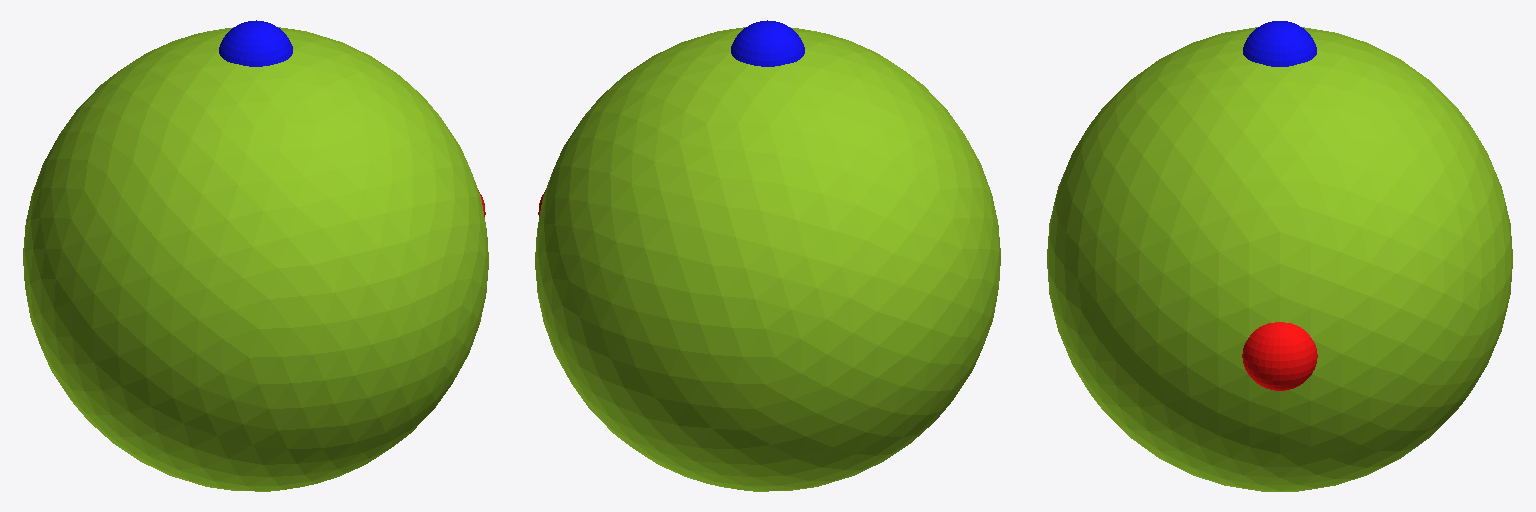
robot.urdf — sphere_tennis:
<robot name="sphere_tennis">
  <link name="object">
    <!-- Main sphere visual -->
    <visual>
      <origin xyz="0 0 0" rpy="0 0 0"/>
      <geometry>
        <mesh filename="sphere_tennis.stl" scale="1.0000E+00 1.0000E+00 1.0000E+00"/>
      </geometry>
      <material name="ball_green">
        <color rgba="0.6 0.8 0.2 1.0"/>
      </material>
    </visual>
    <!-- Small red dot on surface to visualize rotation -->
    <visual>
      <origin xyz="0.034 0 0" rpy="0 0 0"/>
      <geometry>
        <sphere radius="0.006"/>
      </geometry>
      <material name="dot_red">
        <color rgba="1.0 0.1 0.1 1.0"/>
      </material>
    </visual>
    <!-- Second blue dot on top for extra reference -->
    <visual>
      <origin xyz="0 0 0.034" rpy="0 0 0"/>
      <geometry>
        <sphere radius="0.006"/>
      </geometry>
      <material name="dot_blue">
        <color rgba="0.1 0.1 1.0 1.0"/>
      </material>
    </visual>
    <inertial>
      <origin xyz="0 0 0" rpy="0 0 0"/>
      <mass value="0.057"/>
      <inertia ixx="2.96E-05" ixy="0" ixz="0" iyy="2.96E-05" iyz="0" izz="2.96E-05"/>
    </inertial>
    <collision>
      <origin xyz="0 0 0" rpy="0 0 0"/>
      <geometry>
        <mesh filename="coacd_allinone.obj" scale="1.0000E+00 1.0000E+00 1.0000E+00"/>
      </geometry>
    </collision>
  </link>
</robot>

--- What the picture shows (computed from the rendered views, not written in the file) ---
The picture shows the robot from 3 angles, left to right: view 1: azimuth 30°, elevation 25°; view 2: azimuth 150°, elevation 25°; view 3: azimuth 270°, elevation 25°; orthographic projection.
Model sphere_tennis with 1 links and 0 joints (none), rooted at object, posed every joint at zero.
Links seen in each view (by area): view 1: object; view 2: object; view 3: object.
Link boxes in pixels (box(x1,y1,x2,y2)): object: box(23, 20, 488, 491); object: box(535, 20, 1000, 491); object: box(1047, 21, 1512, 491).
Bounding box of the posed robot: 0.076 × 0.072 × 0.076 m (x, y, z).
Meshes: 1 distinct files referenced, 1 mesh visuals loaded (1 binary STL).
